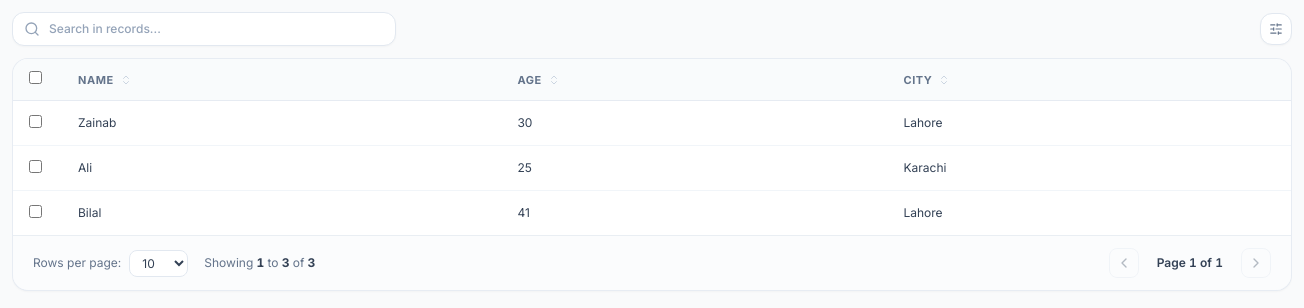
DataTable › selection: row checkboxes, select-all, and the callback receives the ids
Later steps or results of the test are not shown.
Click the checkbox next to "Zainab": point(36, 121) [29,114,42,128]
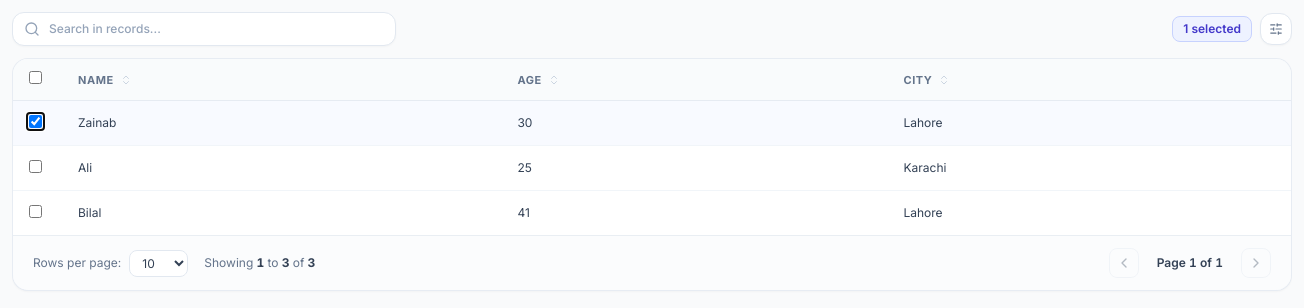
Result: the text "1 selected" is shown at [1172,16,1252,42]
